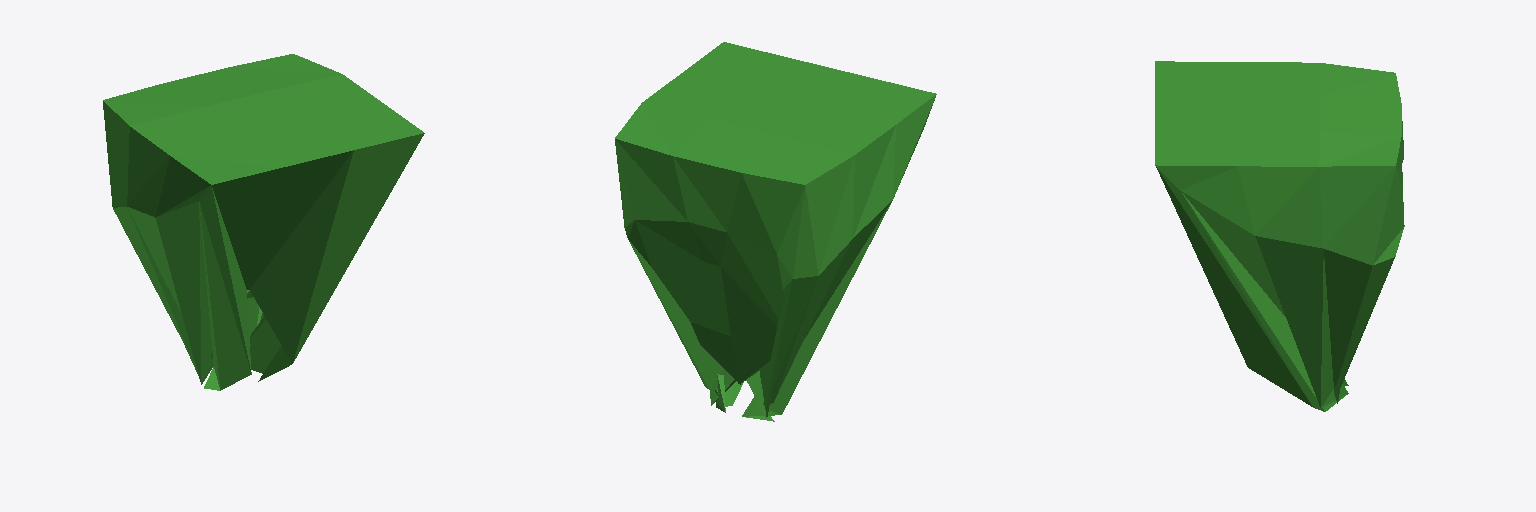
File: stone008.obj
3 views of the same model, side by side, from view 1: azimuth 30°, elevation 25°; view 2: azimuth 150°, elevation 25°; view 3: azimuth 270°, elevation 25° (orthographic).
Visible parts, largest first — view 1: Landscape; view 2: Landscape; view 3: Landscape.
Boxes of the visible parts, x1,y1,x2,y2 form: Landscape: [103, 54, 424, 390]; Landscape: [615, 42, 936, 421]; Landscape: [1155, 61, 1404, 411].
Size of the model in its own units: 0.4531 by 0.5471 by 0.4332.